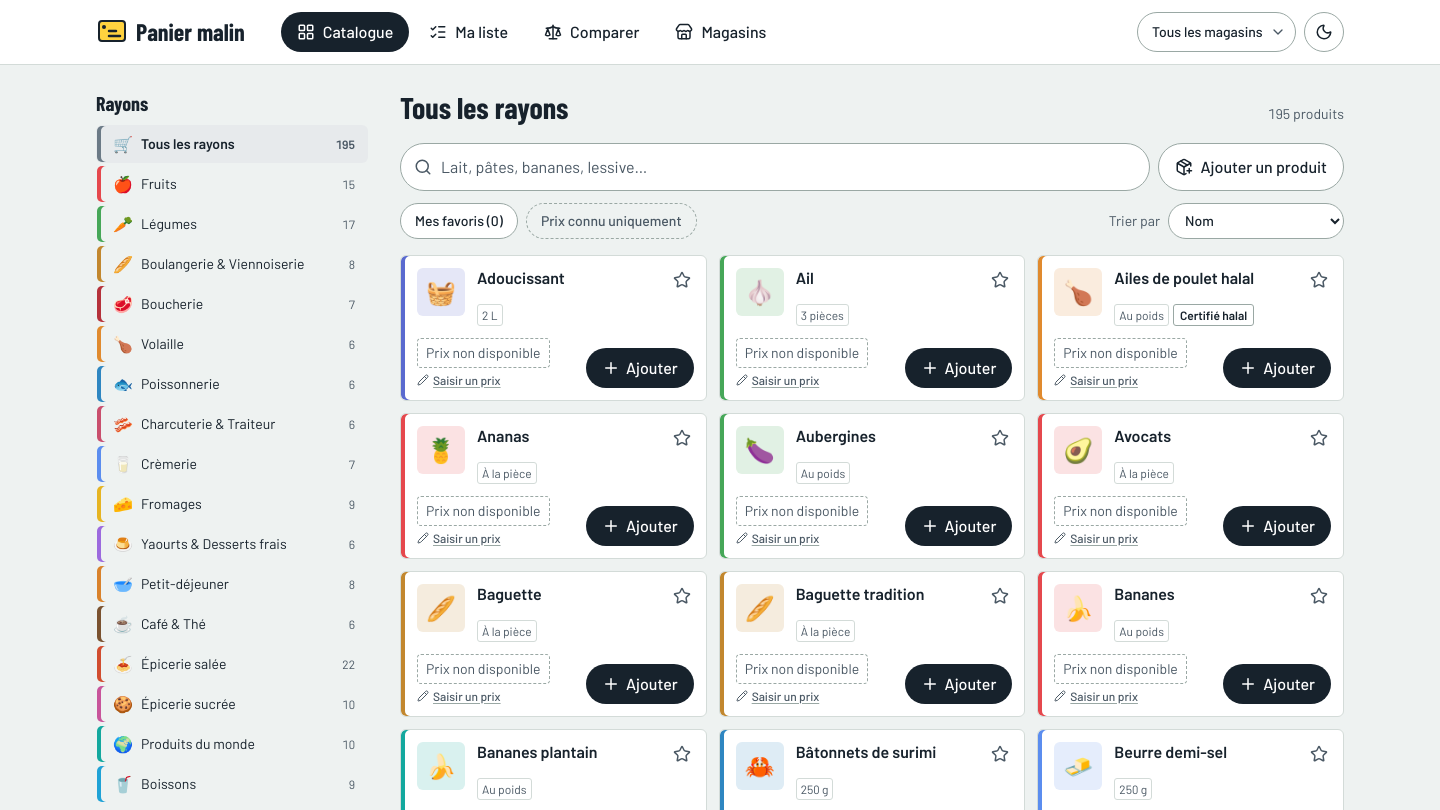
Scenario: prix sur les fiches › invite à choisir ses magasins avant de saisir un prix
The image size is (1440, 810).
Type "bananes" into the search field at (775, 166), box [400,142,1150,190]
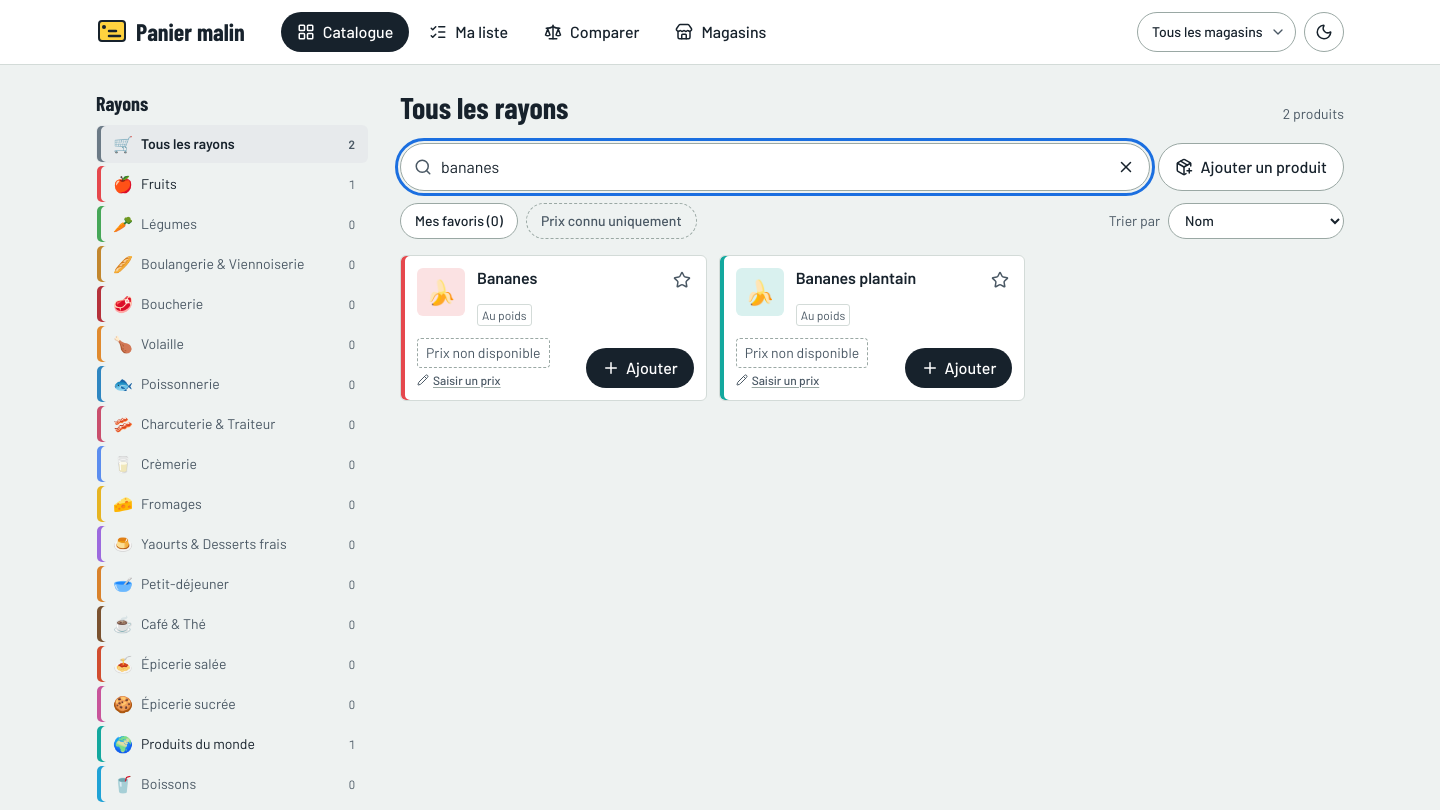
Click the button with aria-label "Saisir un prix pour Bananes (au poids)" at (459, 380), box [417,372,501,388]
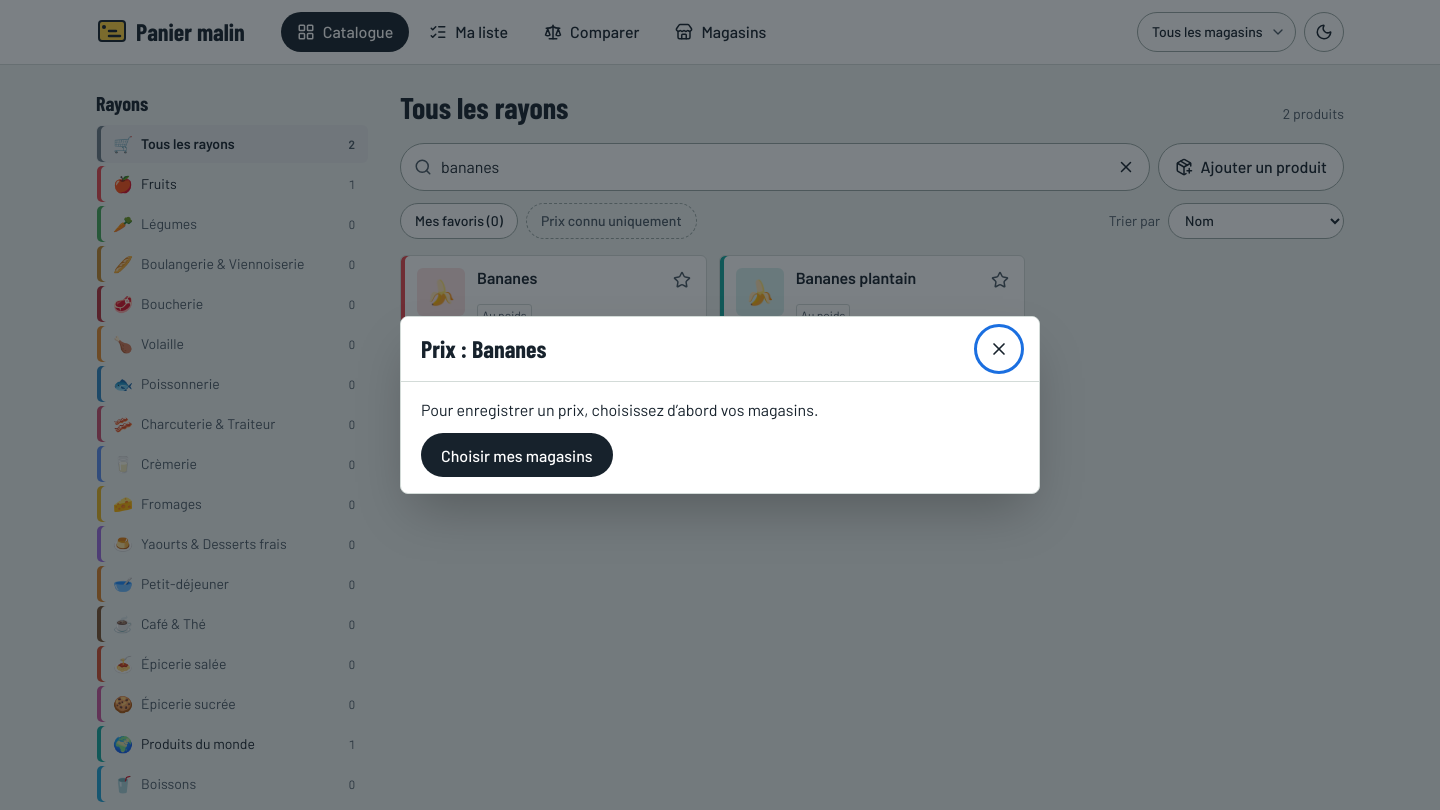
Expected: the link "Choisir mes magasins" is shown, [421,433,613,477]
